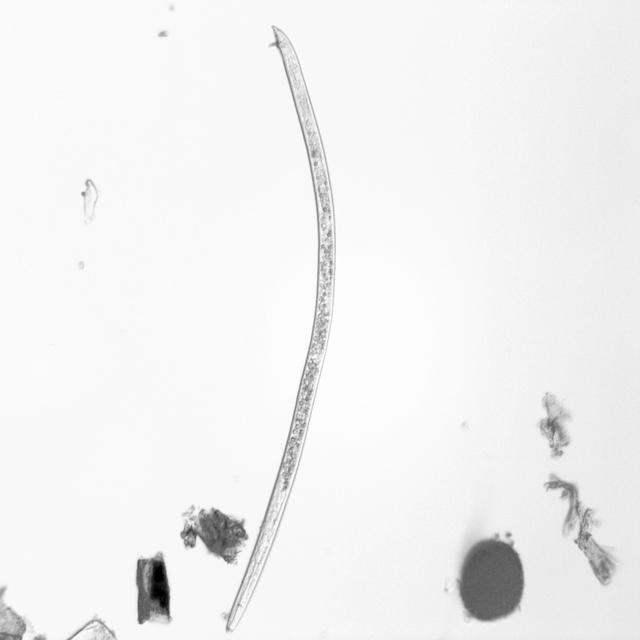Helicotylenchus: (216, 15, 349, 638)
